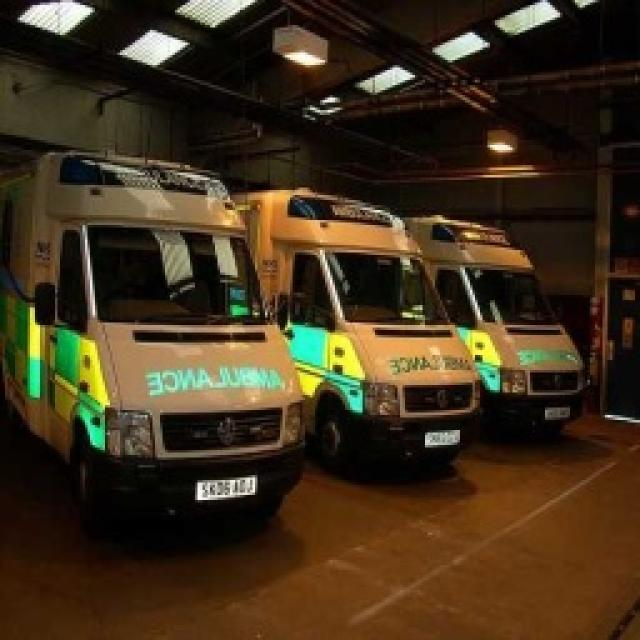emergency-vehicle: (0, 139, 356, 586), (191, 158, 486, 498), (347, 179, 633, 476)
